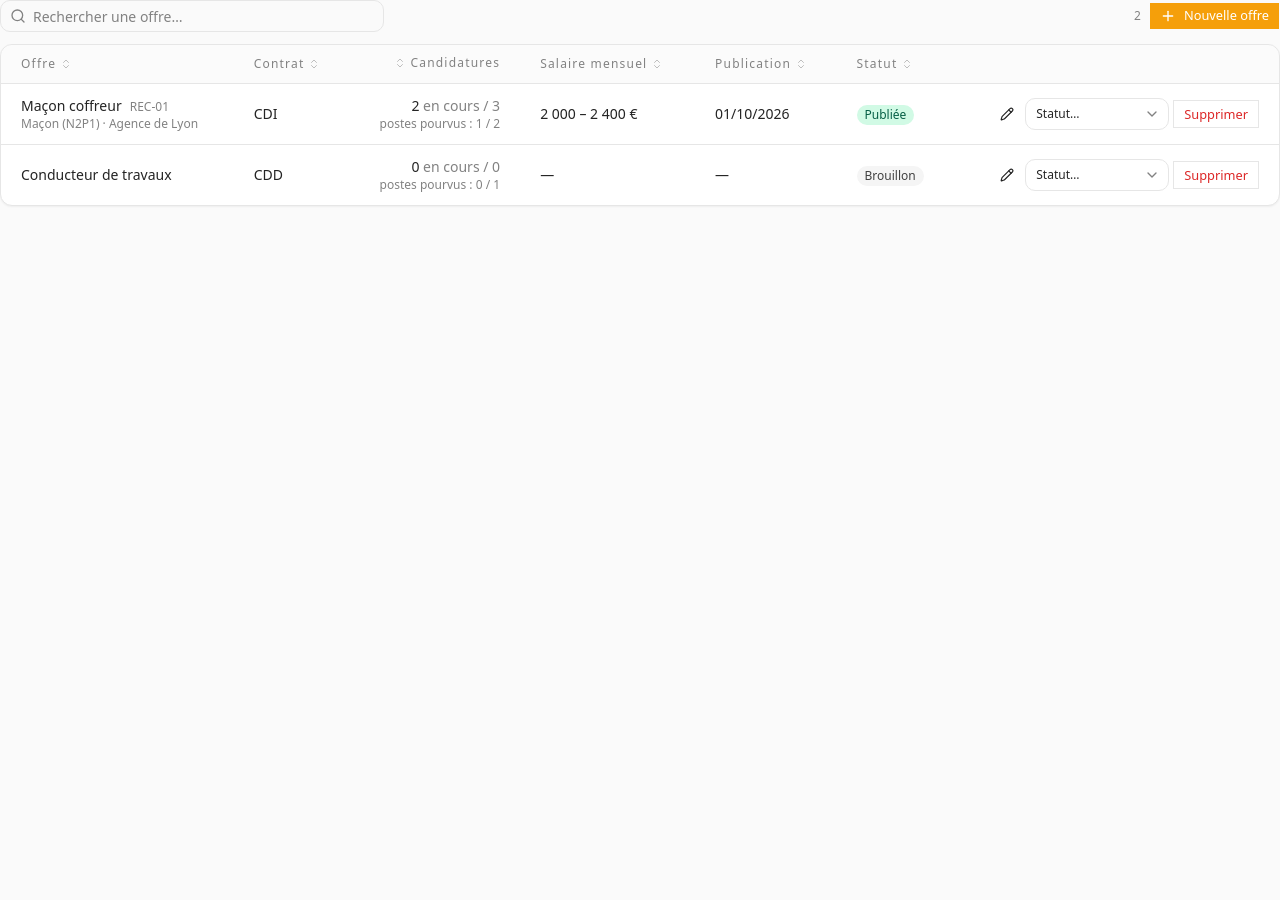
Scenario: OffresSection › édition : modale préremplie
The width and height of the screenshot is (1280, 900).
Click the button named "Modifier Maçon coffreur": (1007, 114) [993,100,1021,128]
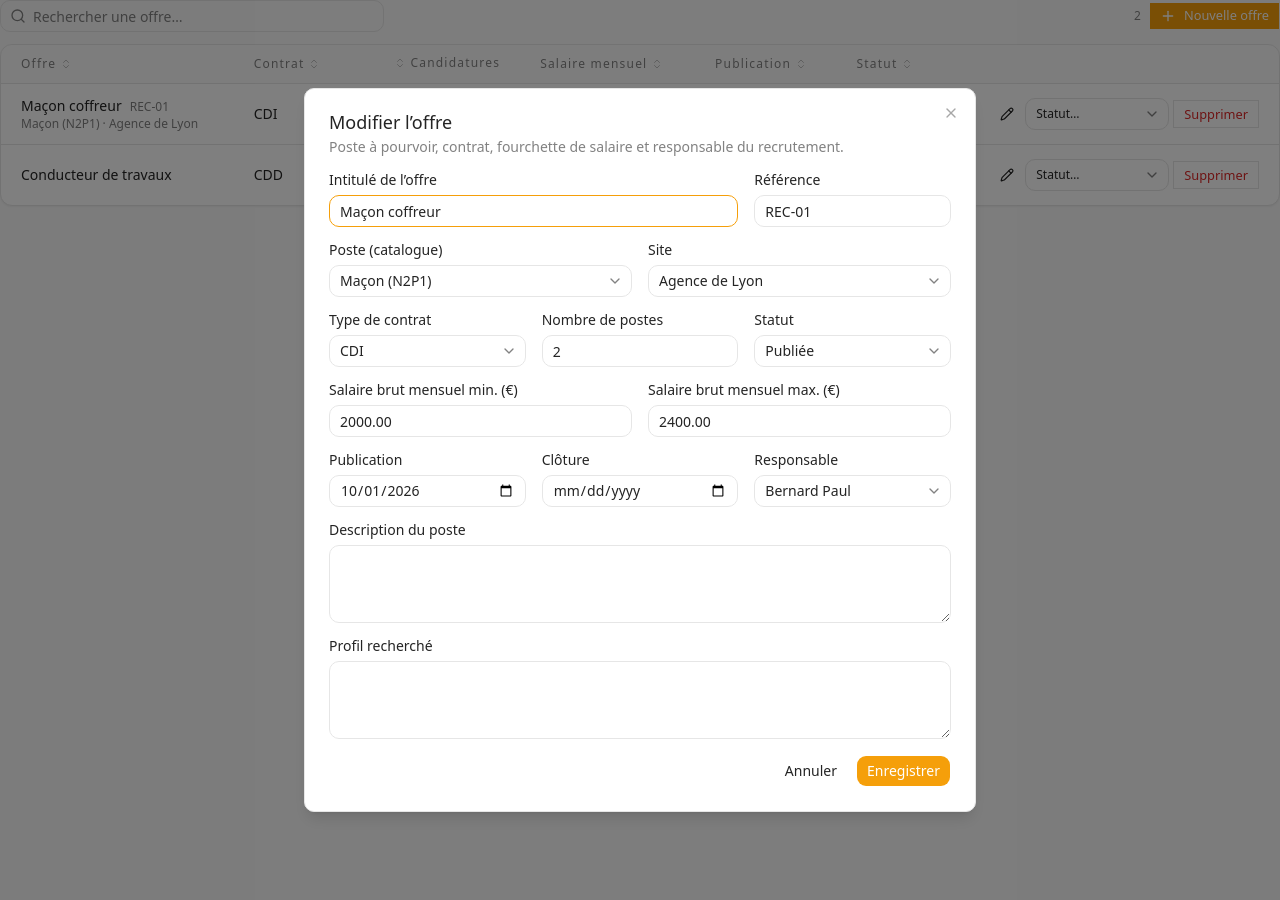
Expected: the heading "Modifier l’offre" is shown, [329,110,452,134]
Expected: the field labelled "Intitulé de l’offre" holds "Maçon coffreur", [329,195,738,227]
Expected: the field labelled "Référence" holds "REC-01", [754,195,951,227]
